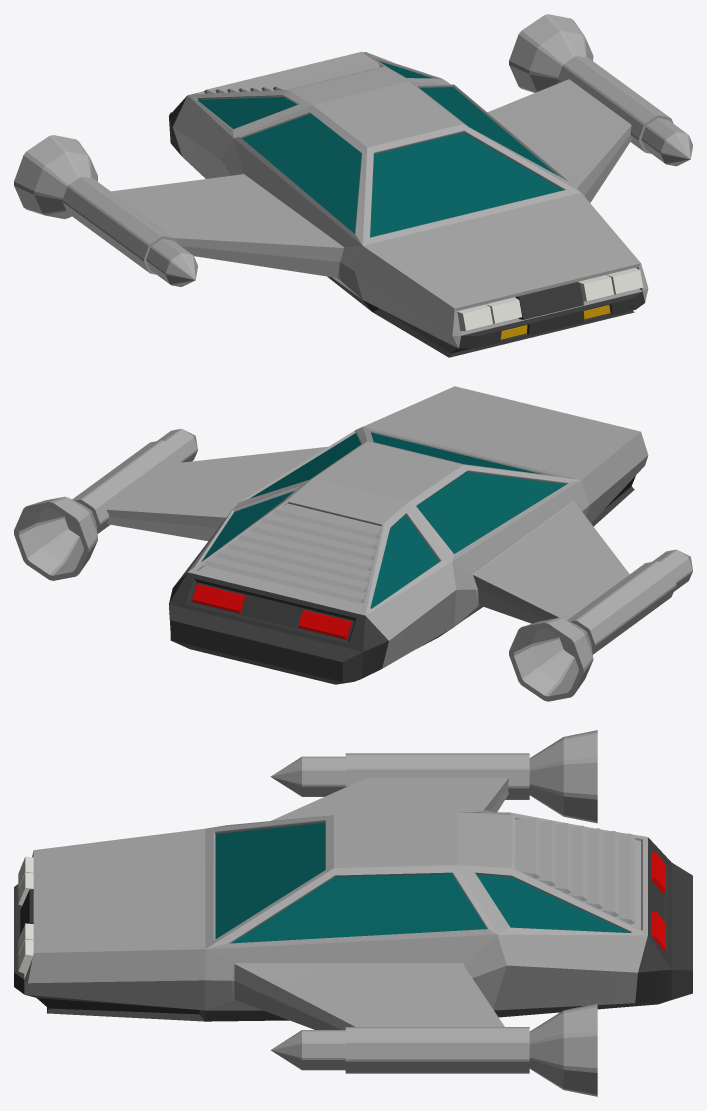
File: playerShip.fbx
3 renders of one model, top to bottom at view 1: azimuth 30°, elevation 25°; view 2: azimuth 150°, elevation 25°; view 3: azimuth 270°, elevation 25°, orthographic. The views are drawn at different scales.
Parts seen in each view (by area): view 1: playerShip_Body, playerShip_Booster02, playerShip_Booster01; view 2: playerShip_Body, playerShip_Booster02, playerShip_Booster01; view 3: playerShip_Body, playerShip_Booster01, playerShip_Booster02.
Part boxes in pixels (x1=…): playerShip_Body: x1=111, y1=51, x2=648, y2=357; playerShip_Booster02: x1=14, y1=135, x2=197, y2=286; playerShip_Booster01: x1=509, y1=14, x2=692, y2=166; playerShip_Body: x1=107, y1=386, x2=648, y2=684; playerShip_Booster02: x1=509, y1=549, x2=692, y2=701; playerShip_Booster01: x1=14, y1=429, x2=197, y2=580; playerShip_Body: x1=14, y1=777, x2=692, y2=1029; playerShip_Booster01: x1=270, y1=1003, x2=597, y2=1096; playerShip_Booster02: x1=270, y1=730, x2=597, y2=823.
Bounding box in the file's own units: 7.48 × 1.42 × 6.82.
